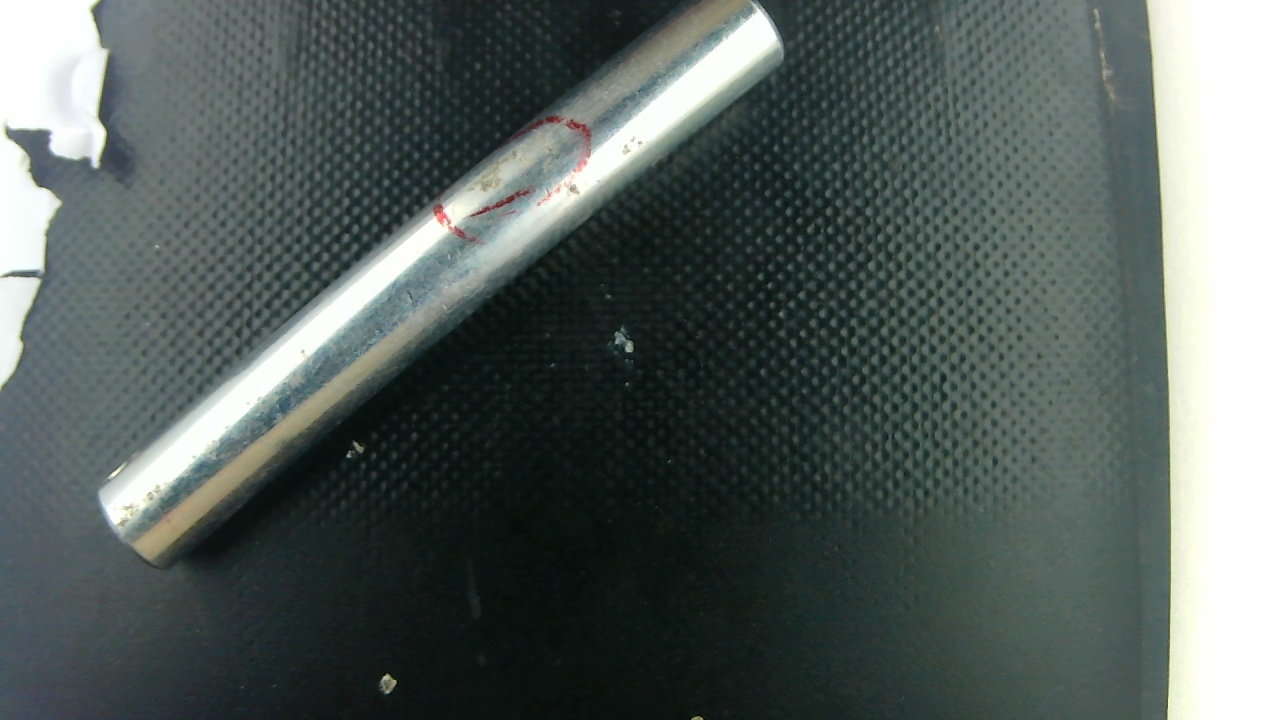whiterust_pin: (462, 142, 529, 198)
